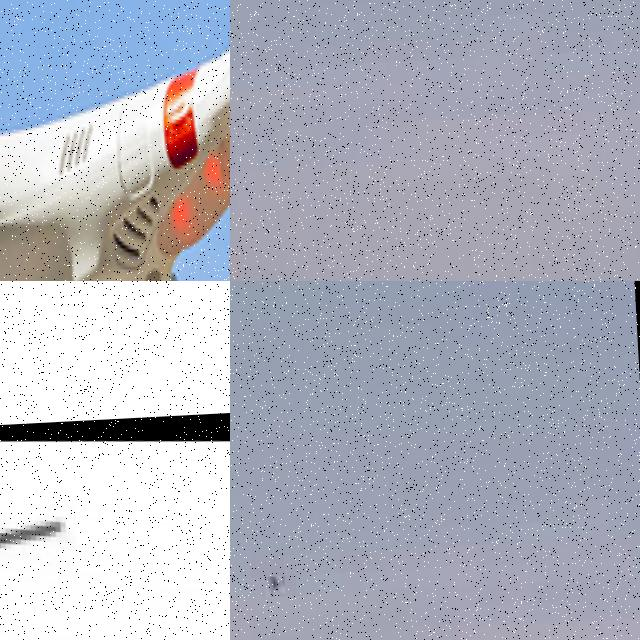drone: (0, 0, 230, 281), (0, 408, 230, 640)
